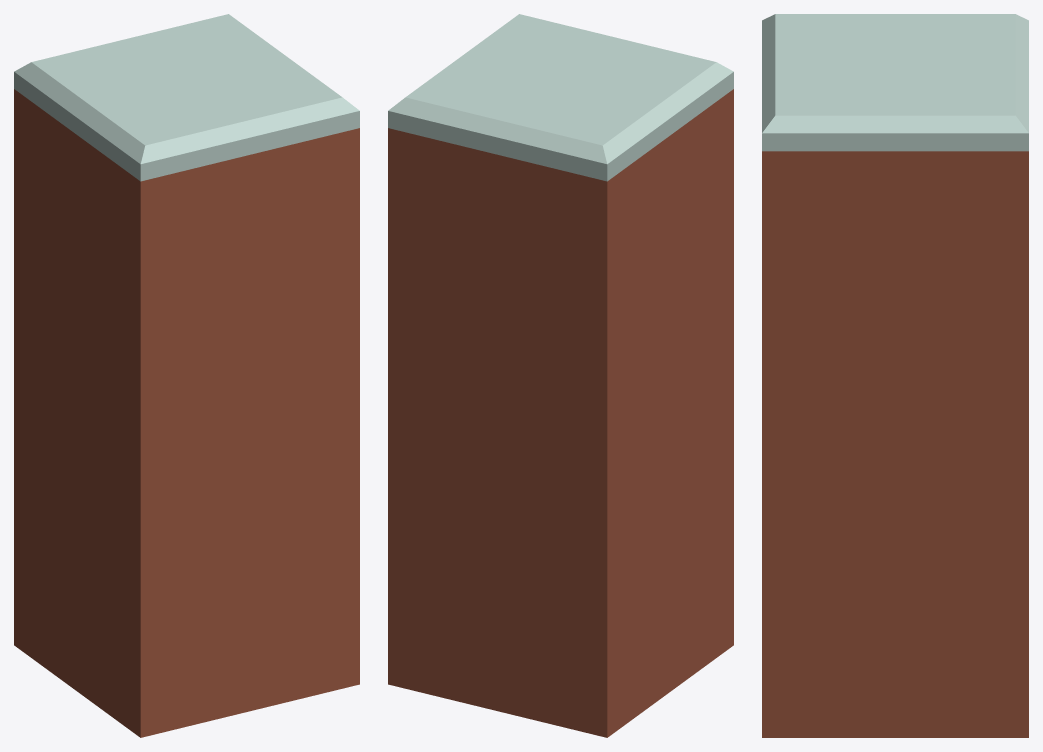
The model's file is Path2.fbx.
3 views of the same model, side by side, from view 1: azimuth 30°, elevation 25°; view 2: azimuth 150°, elevation 25°; view 3: azimuth 270°, elevation 25° (orthographic). The views are drawn at different scales.
Parts seen in each view (by area): view 1: Cube; view 2: Cube; view 3: Cube.
Part boxes in pixels (x1=…): Cube: x1=14, y1=14, x2=359, y2=737; Cube: x1=388, y1=14, x2=733, y2=737; Cube: x1=762, y1=14, x2=1028, y2=737.
Bounding box in the file's own units: 2 × 5.1 × 2.
